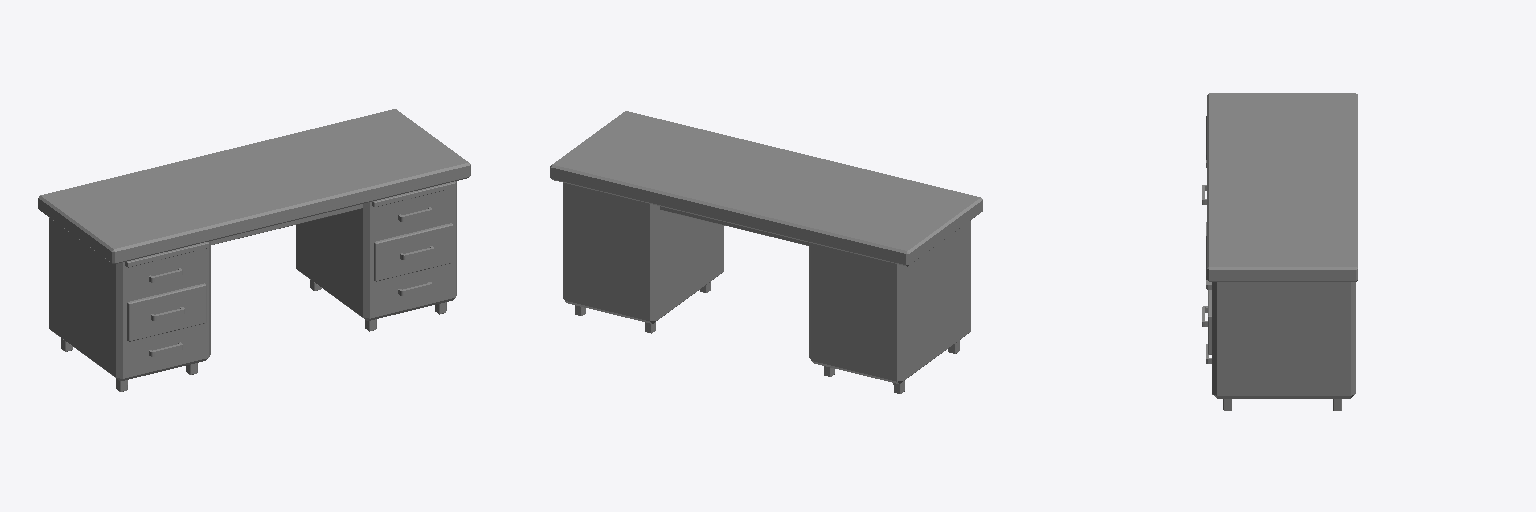
File: Desk_toscale.obj
3 views of the same model, side by side, from view 1: azimuth 30°, elevation 25°; view 2: azimuth 150°, elevation 25°; view 3: azimuth 270°, elevation 25° (orthographic).
Visible parts, largest first — view 1: Desk_FO4_low001; view 2: Desk_FO4_low001; view 3: Desk_FO4_low001.
Part boxes in pixels (x1,y1,x2,y2): Desk_FO4_low001: (38, 109, 470, 391); Desk_FO4_low001: (550, 111, 982, 393); Desk_FO4_low001: (1202, 93, 1357, 410).
Bounding box in the file's own units: 68.73 × 27.8 × 26.01.